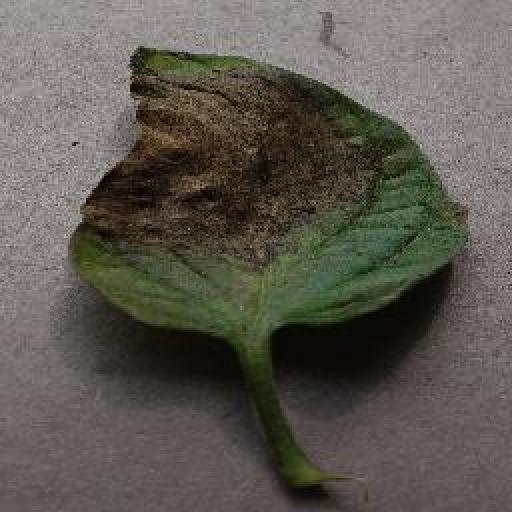disease_tomato: (68, 42, 474, 344)
